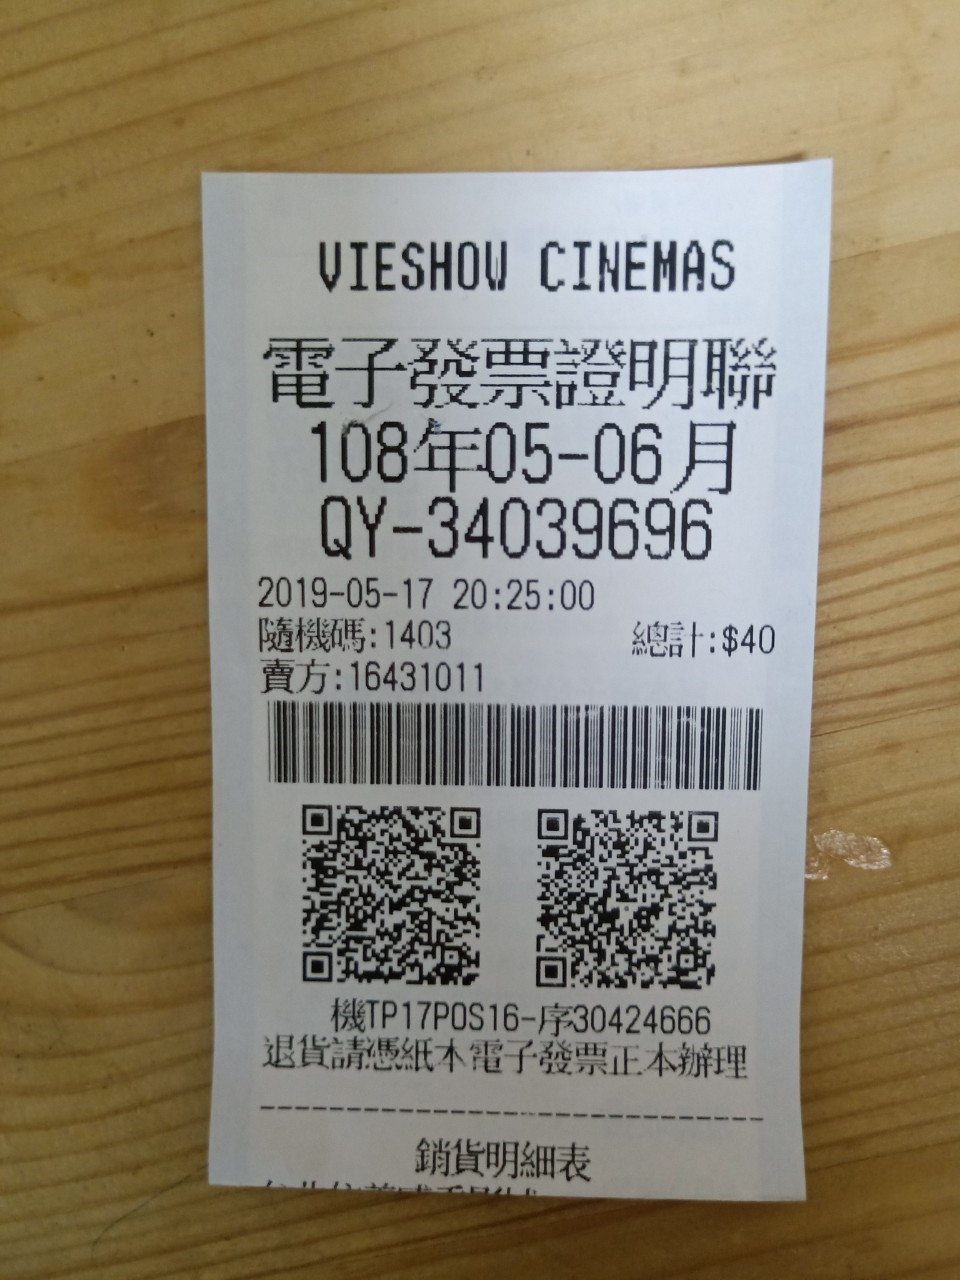Date_New: (310, 416, 738, 497)
Number_New: (426, 492, 718, 563)
